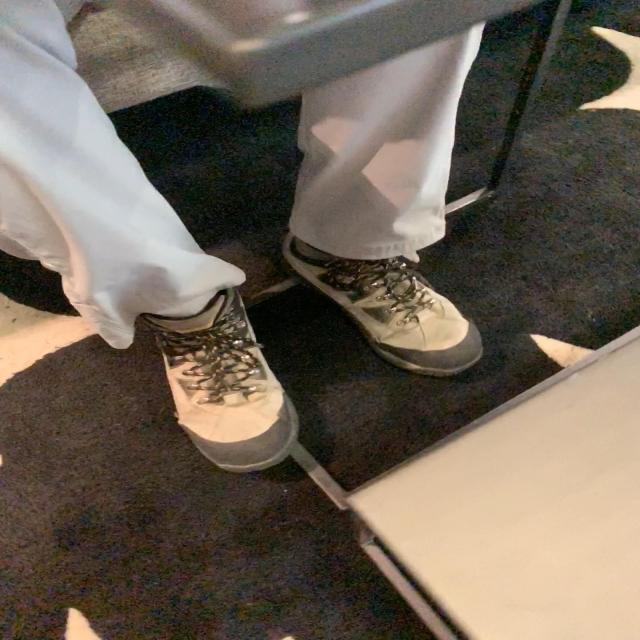shoe: (281, 234, 485, 380), (143, 290, 300, 476)
